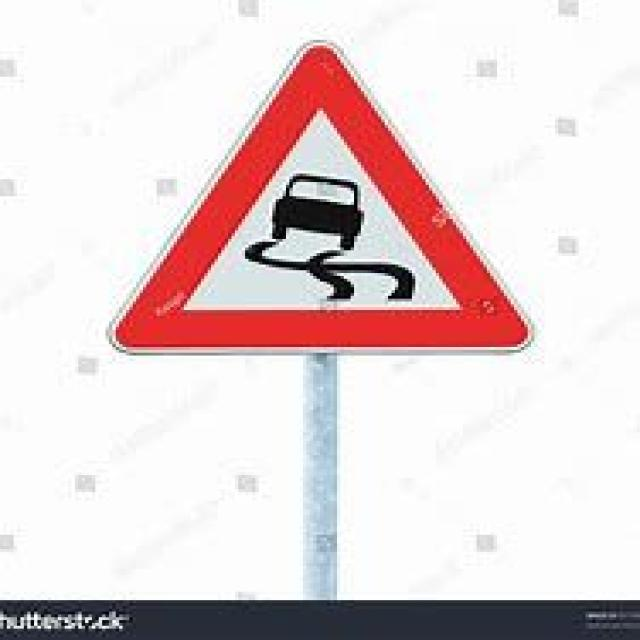children: (102, 34, 535, 350)
